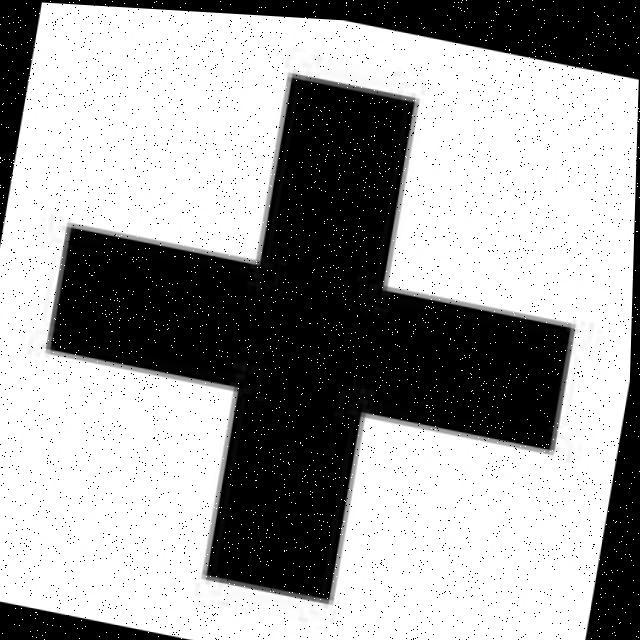cross: (26, 52, 585, 613)
